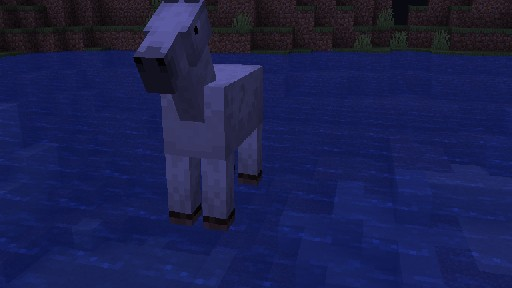horse: (132, 0, 263, 231)
